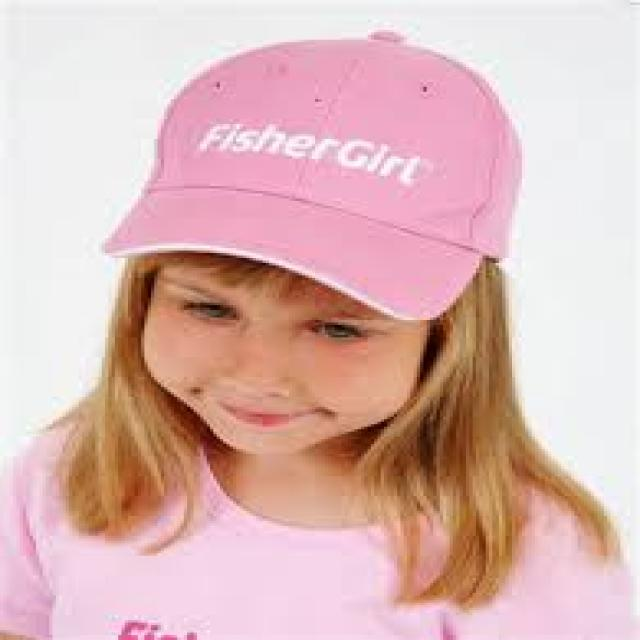3_gorra: (97, 27, 524, 322)
